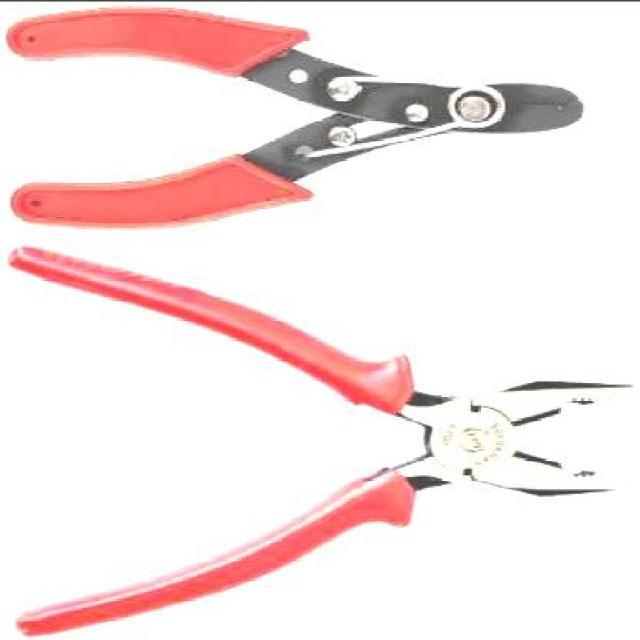pliers: (0, 245, 631, 632)
